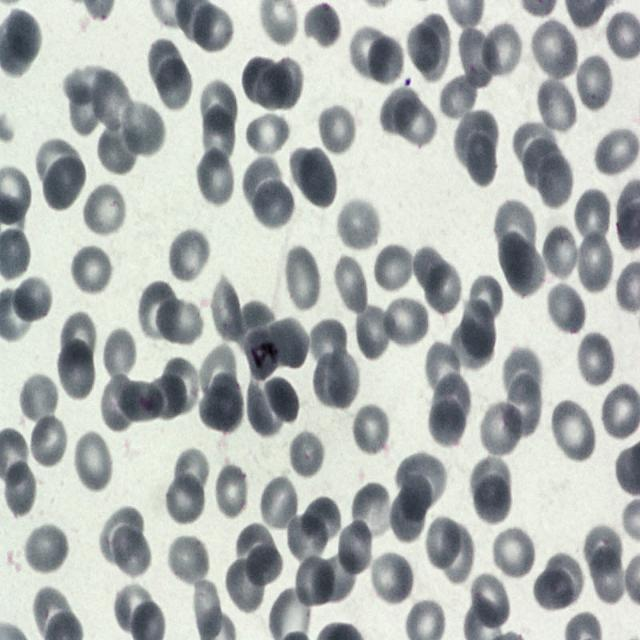red blood cell: (522, 136, 574, 205), (386, 471, 431, 541), (99, 374, 154, 431), (290, 144, 337, 210), (398, 450, 448, 512), (198, 370, 246, 434), (135, 279, 182, 344), (550, 398, 596, 464), (417, 251, 463, 316), (530, 20, 578, 81), (0, 9, 46, 72), (348, 480, 396, 540), (88, 70, 132, 134), (502, 232, 544, 299), (456, 305, 498, 372), (334, 195, 383, 251), (118, 99, 165, 157), (282, 245, 322, 312), (72, 430, 114, 493), (56, 336, 96, 402), (368, 550, 415, 606), (501, 345, 542, 409), (492, 199, 535, 260), (83, 181, 128, 239), (225, 553, 267, 615), (491, 524, 536, 581), (468, 571, 510, 632), (575, 230, 615, 294), (168, 228, 212, 286), (96, 118, 140, 176), (195, 147, 236, 209), (23, 522, 70, 576), (110, 581, 156, 636), (424, 339, 466, 399), (425, 389, 468, 447), (187, 1, 234, 54), (537, 77, 579, 136), (354, 302, 396, 361), (293, 552, 337, 608), (572, 188, 612, 249), (574, 331, 616, 389), (306, 316, 348, 374), (42, 156, 87, 210), (362, 33, 405, 89), (244, 108, 292, 158), (164, 469, 206, 526), (594, 125, 640, 177), (70, 243, 114, 297), (241, 56, 290, 104), (100, 506, 142, 562), (418, 12, 452, 81), (166, 534, 209, 588), (68, 78, 108, 136), (505, 373, 540, 439), (256, 60, 304, 108), (317, 102, 358, 158), (351, 402, 392, 458), (252, 179, 296, 231), (259, 476, 299, 533), (544, 282, 586, 336), (19, 371, 61, 425), (575, 54, 614, 112), (332, 254, 369, 315), (459, 23, 496, 84), (36, 139, 81, 189), (10, 274, 54, 325), (480, 402, 523, 454), (590, 544, 626, 606), (456, 109, 498, 162), (213, 462, 251, 520), (0, 459, 38, 517), (173, 446, 213, 500), (112, 522, 152, 576), (198, 79, 238, 132), (157, 298, 204, 343), (163, 356, 202, 410), (395, 98, 437, 148), (319, 551, 360, 602), (585, 523, 623, 578), (482, 25, 522, 77), (378, 87, 422, 134), (301, 0, 342, 50), (198, 346, 238, 397), (312, 353, 347, 411), (59, 311, 98, 363), (374, 246, 418, 292), (288, 428, 326, 481), (424, 516, 462, 569), (326, 350, 359, 411), (441, 524, 473, 586), (384, 299, 428, 344), (102, 327, 138, 382), (466, 275, 506, 324), (116, 383, 166, 422), (158, 56, 192, 113), (302, 496, 344, 542), (201, 106, 236, 161), (234, 524, 274, 572), (540, 156, 574, 212), (546, 552, 584, 601), (31, 421, 72, 466), (514, 122, 555, 167), (439, 74, 479, 120), (473, 476, 513, 522), (464, 134, 498, 188), (248, 384, 282, 437), (244, 157, 280, 207), (544, 229, 582, 276), (212, 280, 242, 338), (470, 458, 510, 501), (287, 516, 327, 559), (350, 26, 384, 76), (279, 318, 312, 369), (533, 571, 574, 612), (264, 378, 301, 423), (336, 522, 369, 571), (147, 40, 182, 86), (154, 373, 188, 420), (407, 26, 442, 70), (247, 542, 282, 585)
ring: (245, 324, 281, 382)
